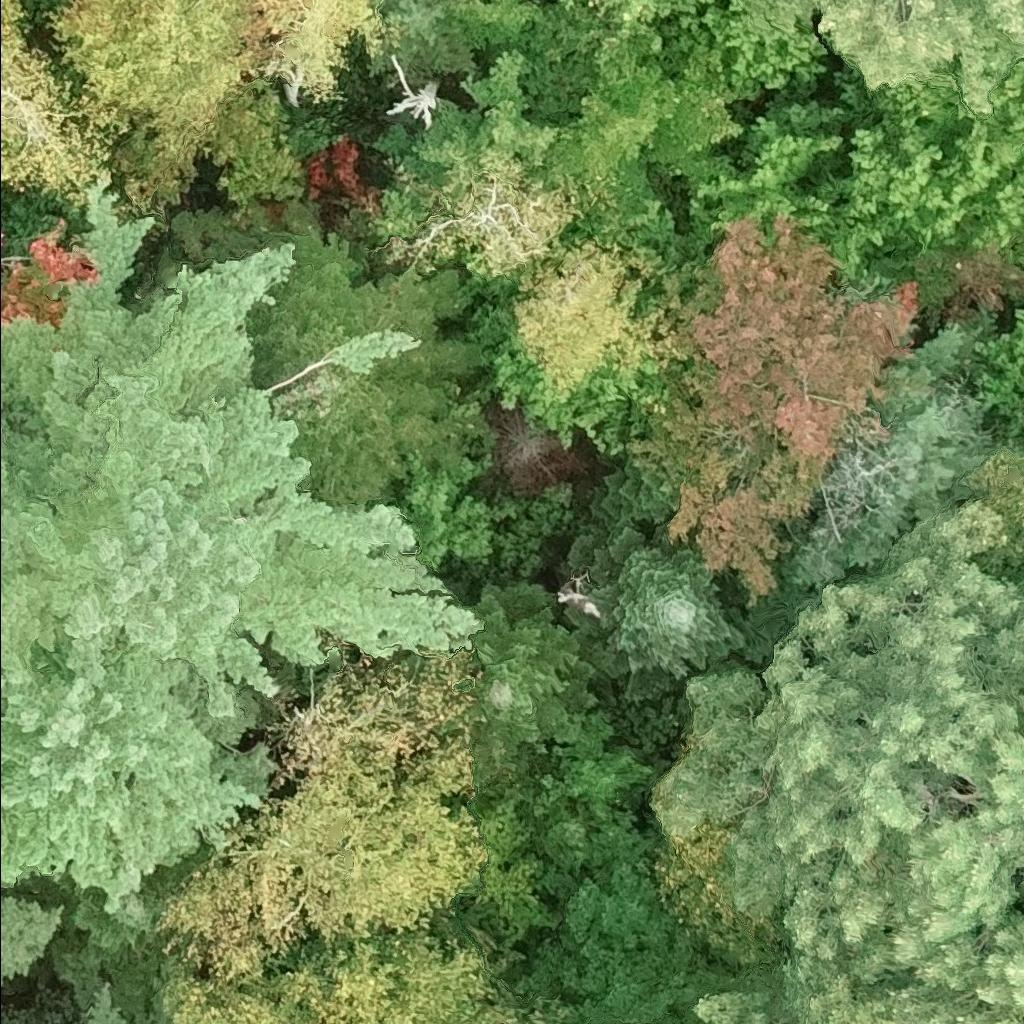crown: (0, 193, 494, 705), (649, 504, 1023, 1023), (157, 644, 483, 979), (667, 217, 916, 587), (691, 56, 1023, 293), (0, 632, 279, 905), (238, 228, 499, 515), (454, 0, 742, 248), (766, 325, 1005, 599), (46, 0, 303, 205), (564, 453, 748, 706), (379, 46, 577, 277), (489, 243, 678, 440), (554, 0, 831, 104), (781, 0, 1023, 117), (161, 938, 493, 1023), (0, 38, 130, 205), (890, 919, 1023, 1023), (255, 0, 386, 100), (960, 313, 1023, 451), (971, 442, 1023, 580), (805, 976, 896, 1023), (695, 993, 774, 1023), (0, 0, 24, 40)
